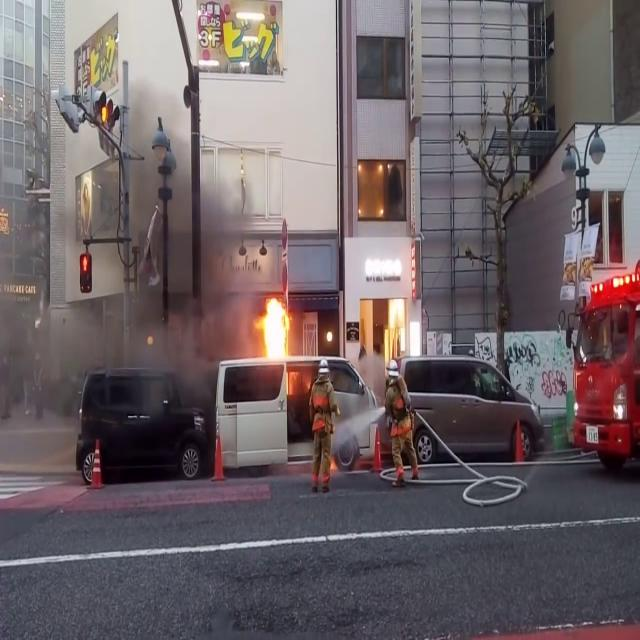Fire: (252, 289, 296, 370)
Smoke: (0, 109, 251, 432)
